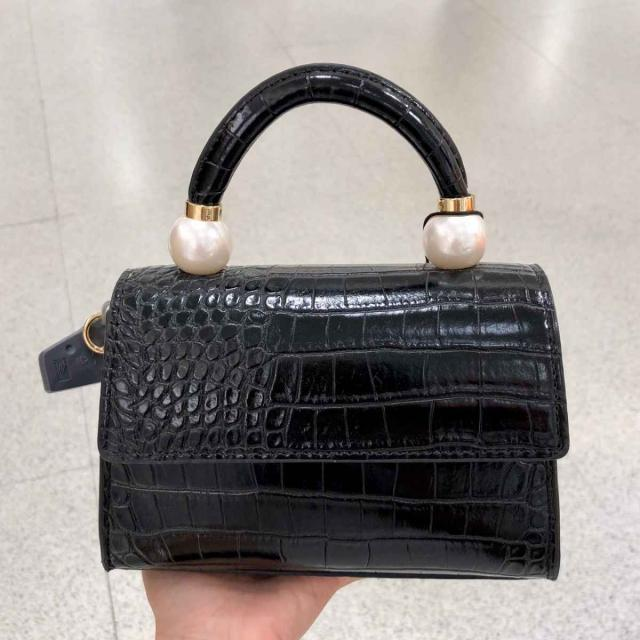Handbag: (81, 174, 579, 585)
